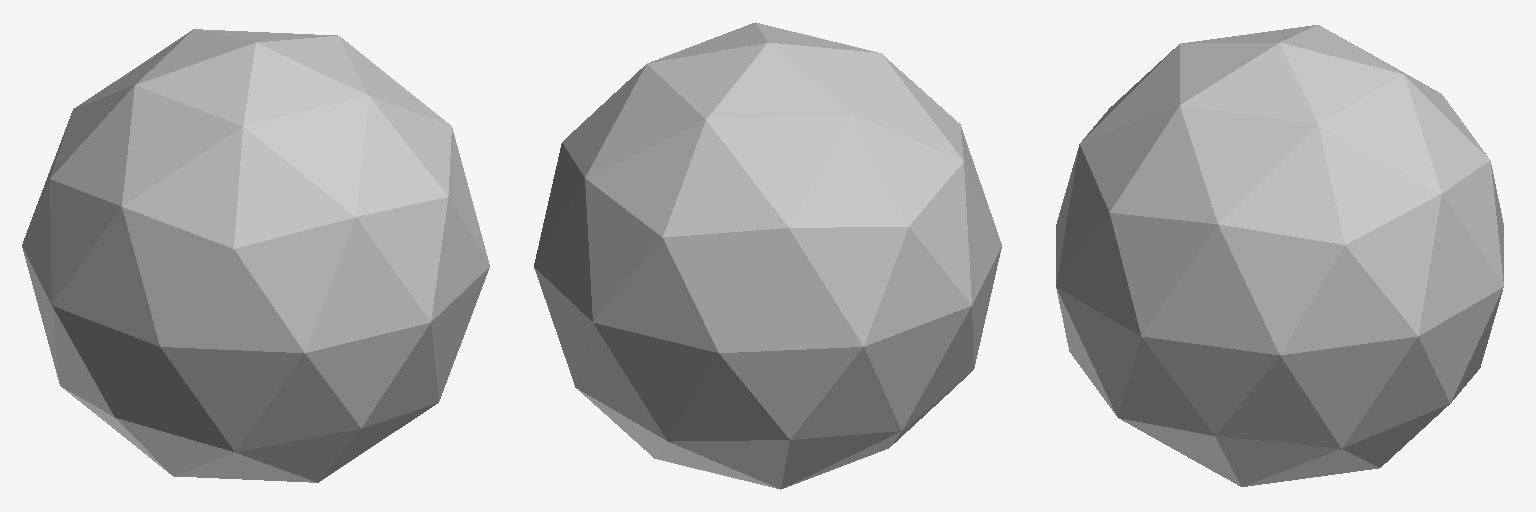
File: particula.obj
3 views of the same model, side by side, from view 1: azimuth 30°, elevation 25°; view 2: azimuth 150°, elevation 25°; view 3: azimuth 270°, elevation 25° (orthographic).
Visible parts, largest first — view 1: Icosphere; view 2: Icosphere; view 3: Icosphere.
Part boxes in pixels (left/top/right/bottom): Icosphere: left=22, top=29, right=489, bottom=482; Icosphere: left=534, top=22, right=1001, bottom=489; Icosphere: left=1056, top=25, right=1503, bottom=486.
Bounding box in the file's own units: 2 × 2 × 1.9.